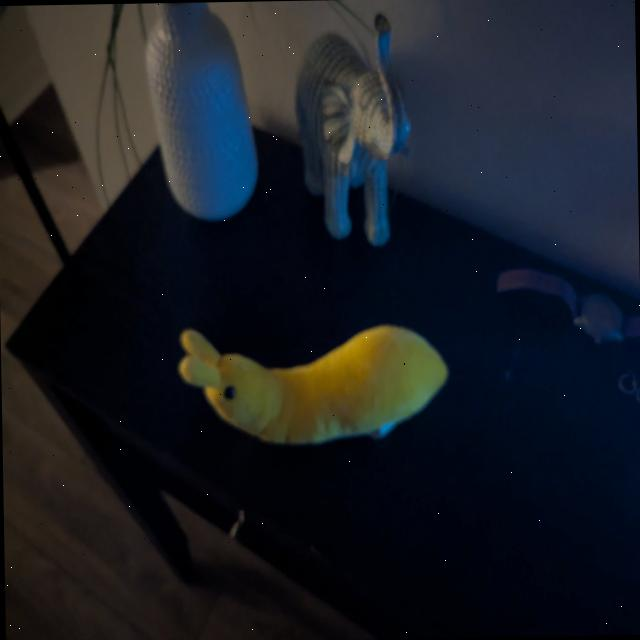banana-slug-toy: (174, 310, 466, 486)
